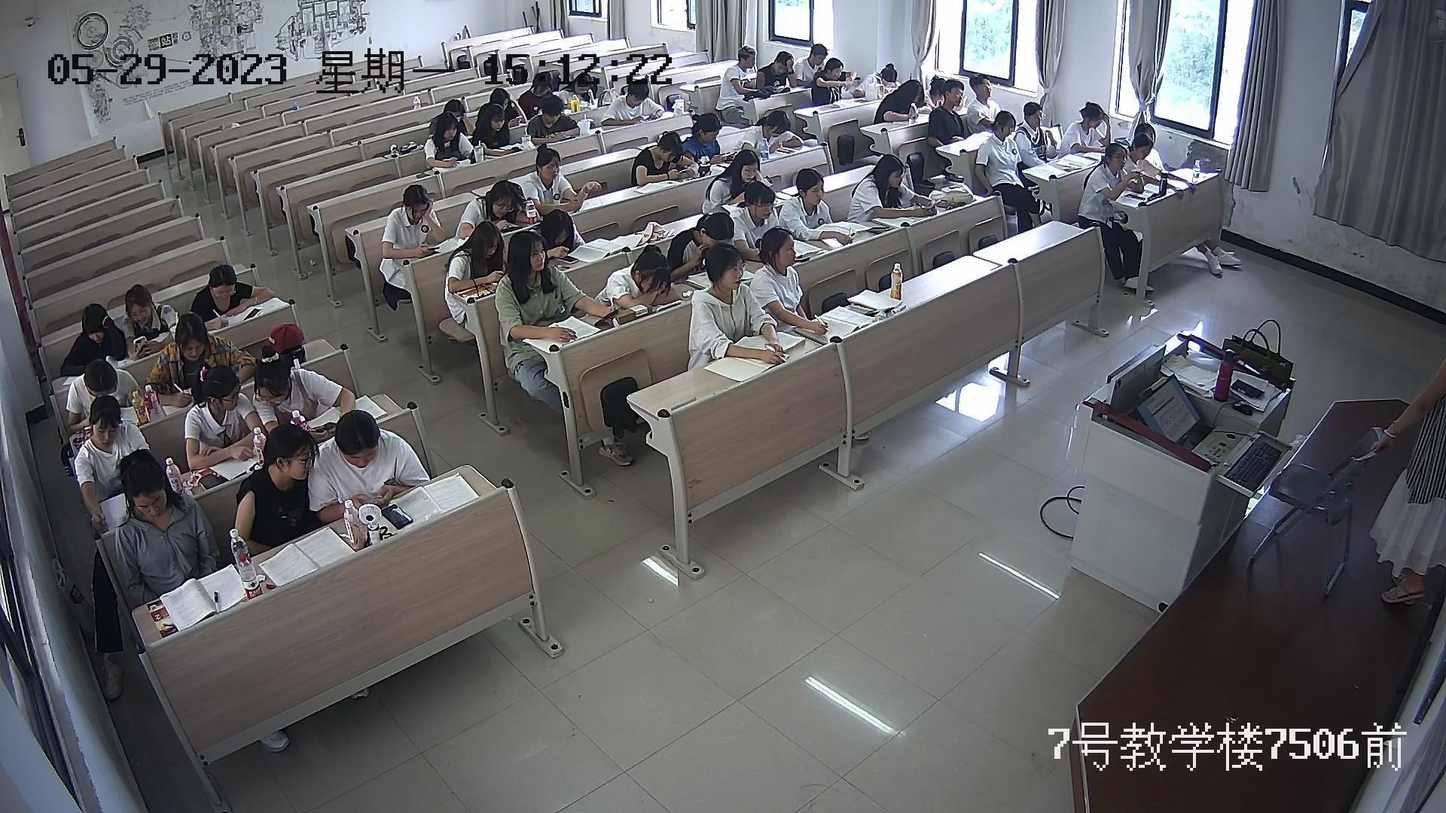Bend Over The Desk: (603, 252, 669, 314)
Hand Under Table: (796, 300, 808, 315)
Look Around: (197, 368, 248, 422), (256, 348, 298, 401)
Normal: (1064, 101, 1107, 152), (793, 173, 831, 214)
phone: (357, 491, 389, 506), (131, 332, 149, 356), (673, 165, 696, 180), (423, 239, 441, 257), (775, 141, 792, 157), (927, 197, 941, 215), (719, 150, 733, 161)
